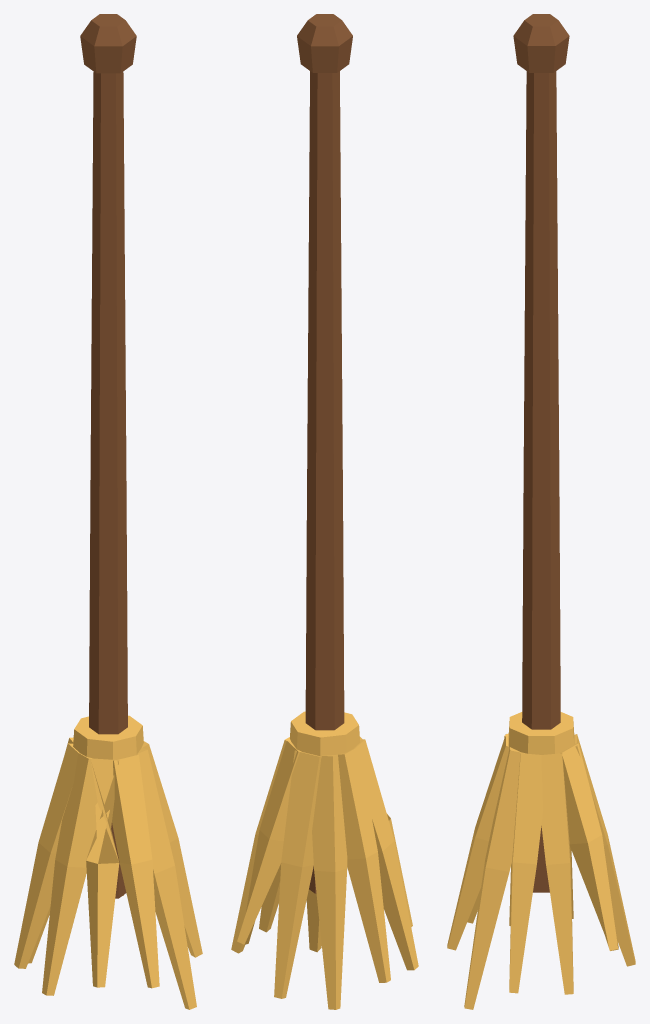
Rendered from Witch_Broom_own.gltf.
3 renders of one model, left to right at view 1: azimuth 30°, elevation 25°; view 2: azimuth 150°, elevation 25°; view 3: azimuth 270°, elevation 25°, orthographic.
Visible parts, largest first — view 1: Witch_Broom_own; view 2: Witch_Broom_own; view 3: Witch_Broom_own.
Boxes of the visible parts, x1=… form: Witch_Broom_own: x1=14, y1=14, x2=202, y2=1009; Witch_Broom_own: x1=231, y1=14, x2=418, y2=1009; Witch_Broom_own: x1=447, y1=14, x2=635, y2=1009.
Bounding box in the file's own units: 0.2297 × 1.37 × 0.2409.
